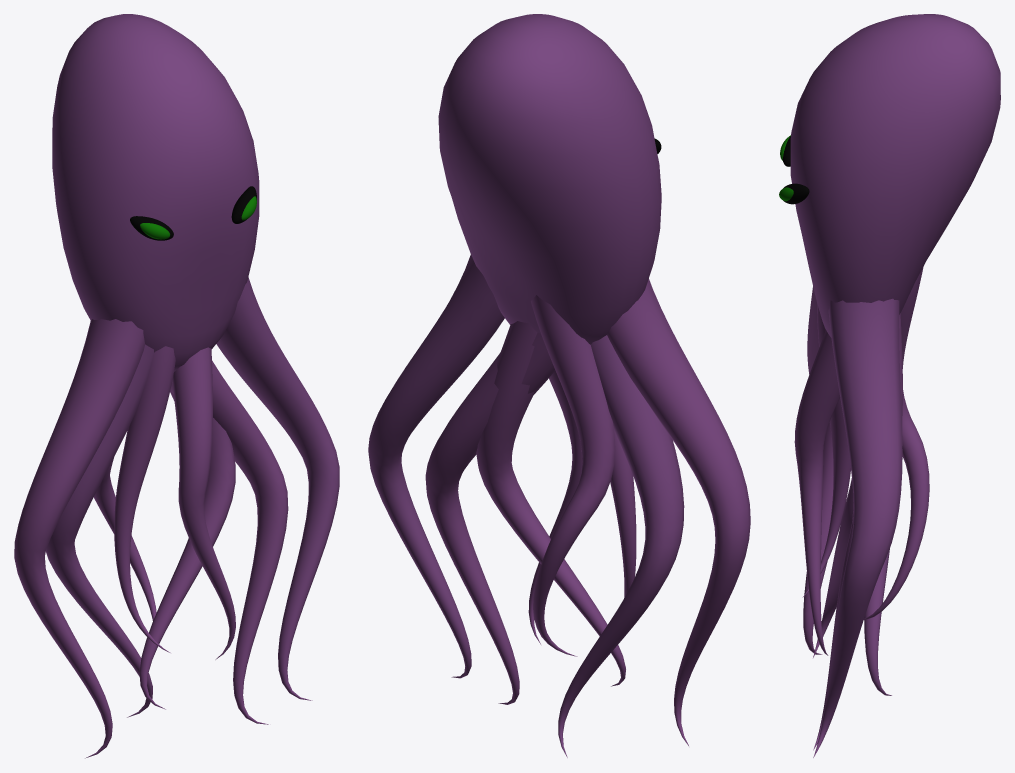
Rendered from Poulpe 06.fbx.
3 renders of one model, left to right at view 1: azimuth 30°, elevation 25°; view 2: azimuth 150°, elevation 25°; view 3: azimuth 270°, elevation 25°, orthographic. The views are drawn at different scales.
Parts seen in each view (by area): view 1: tête; view 2: tête; view 3: tête.
Part boxes in pixels (bbox=[...]): tête: bbox=[14, 14, 339, 758]; tête: bbox=[368, 14, 750, 757]; tête: bbox=[779, 14, 1000, 757].
Size of the model in its own units: 2.53 by 4.96 by 1.45.
